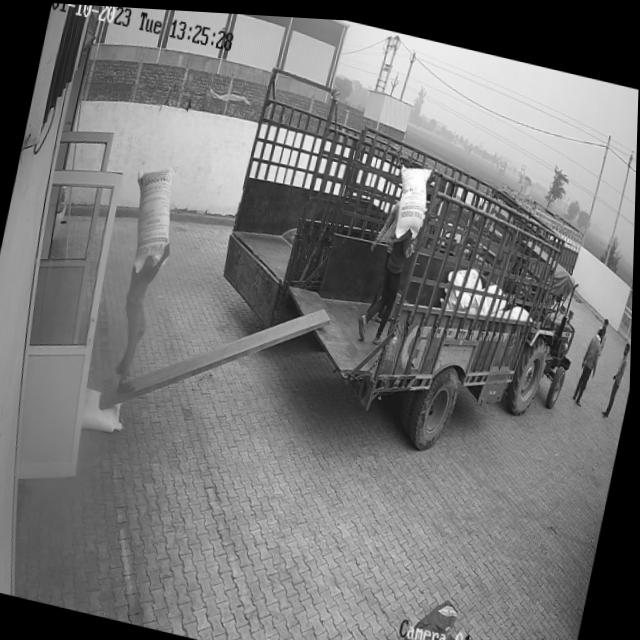sack: (119, 159, 183, 277), (386, 154, 435, 239), (80, 385, 132, 436)
